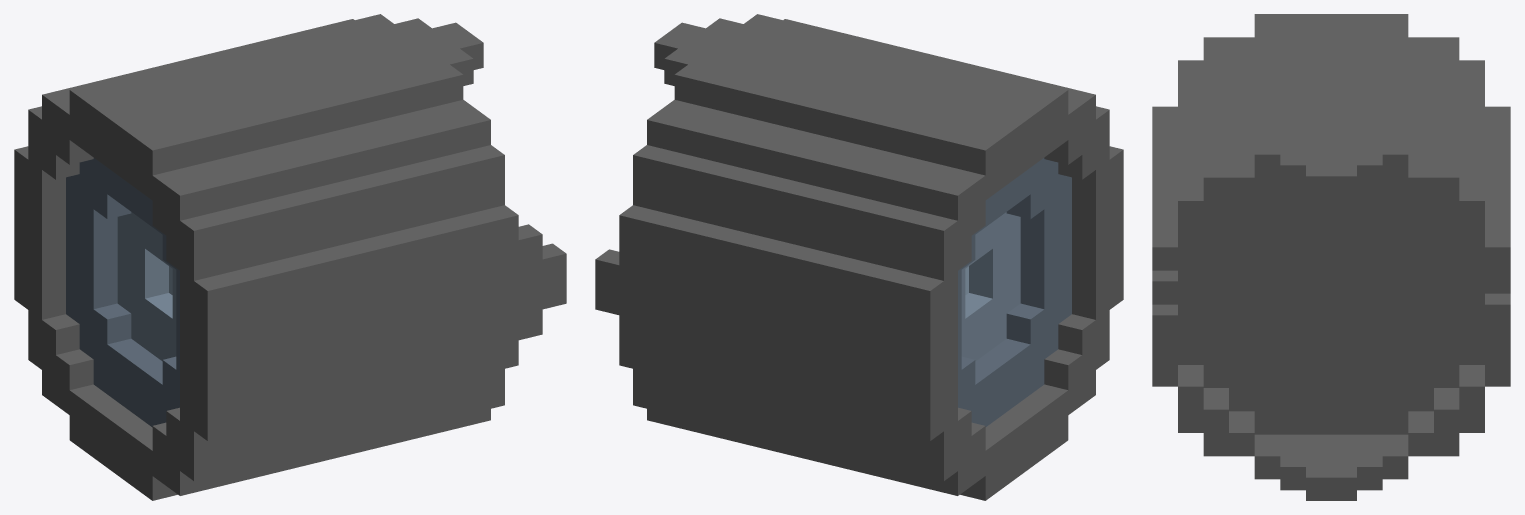
The model's file is shipEngine.dae.
3 renders of one model, left to right at view 1: azimuth 30°, elevation 25°; view 2: azimuth 150°, elevation 25°; view 3: azimuth 270°, elevation 25°, orthographic. The views are drawn at different scales.
Parts seen in each view (by area): view 1: node; view 2: node; view 3: node.
Boxes of the visible parts, x1,y1,x2,y2 form: node: (14, 14, 566, 500); node: (595, 14, 1123, 500); node: (1152, 14, 1510, 500).
Bounding box in the file's own units: 1.5 × 1.4 × 1.4.
